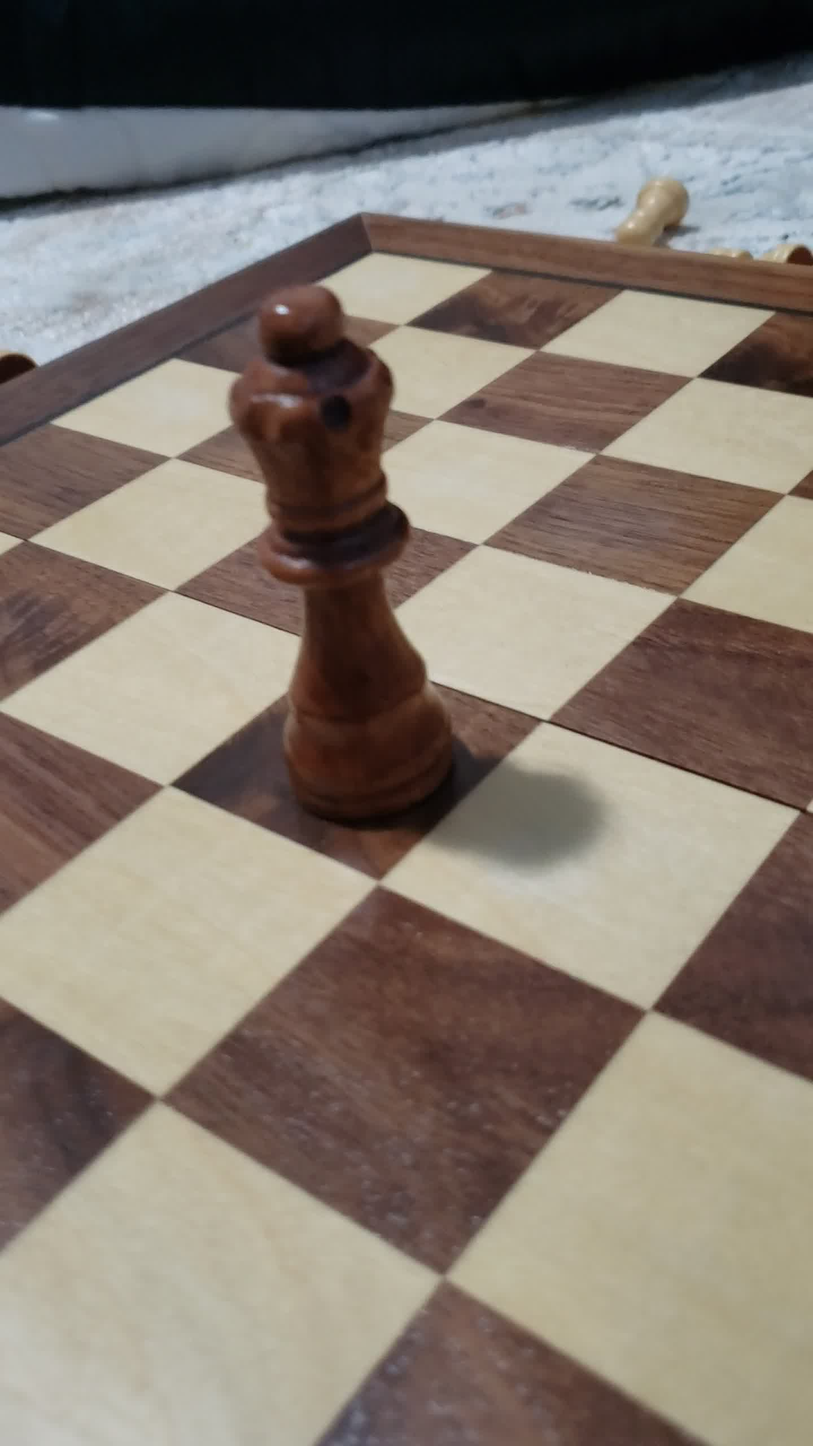black-queen: (200, 263, 505, 847)
